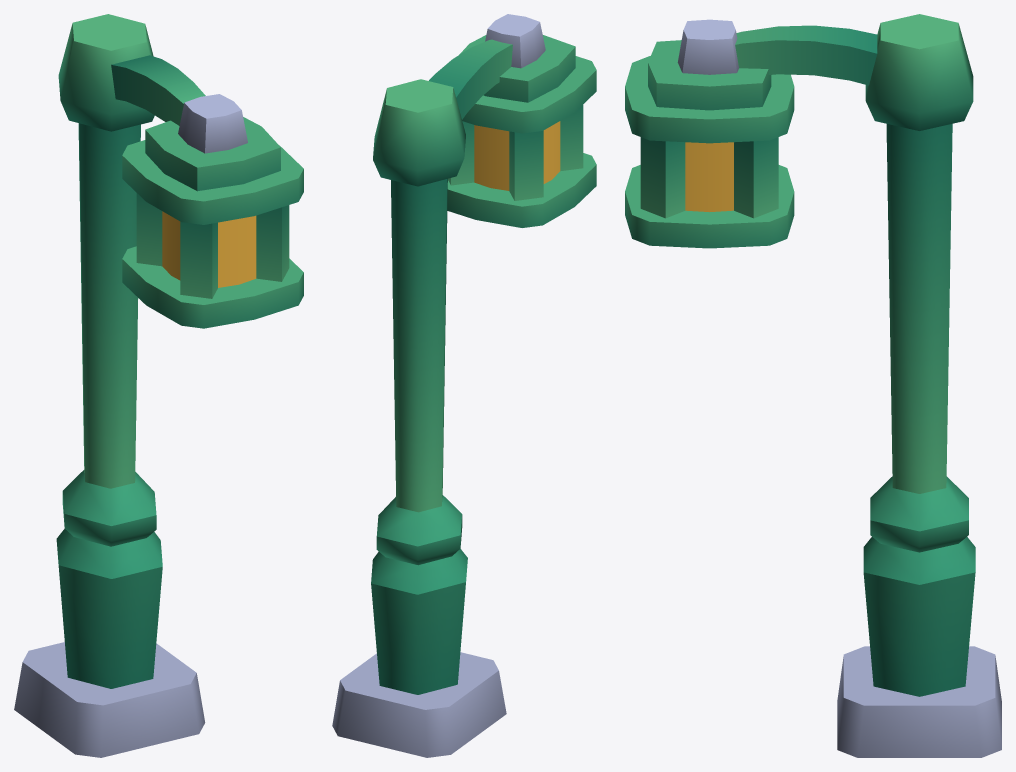
The model's file is lightpost-single_lev1.glb.
The picture shows the model from 3 angles, left to right: view 1: azimuth 30°, elevation 25°; view 2: azimuth 150°, elevation 25°; view 3: azimuth 270°, elevation 25°; orthographic projection. The views are drawn at different scales.
Parts seen in each view (by area): view 1: lightpost-single_lev1; view 2: lightpost-single_lev1; view 3: lightpost-single_lev1.
Boxes of the visible parts, <box> form: lightpost-single_lev1: <box>14,14,303,757</box>; lightpost-single_lev1: <box>332,14,596,757</box>; lightpost-single_lev1: <box>625,14,1001,757</box>.
Bounding box in the file's own units: 0.6515 × 3.19 × 1.57.
Materials: 1 (1 with a texture image).
